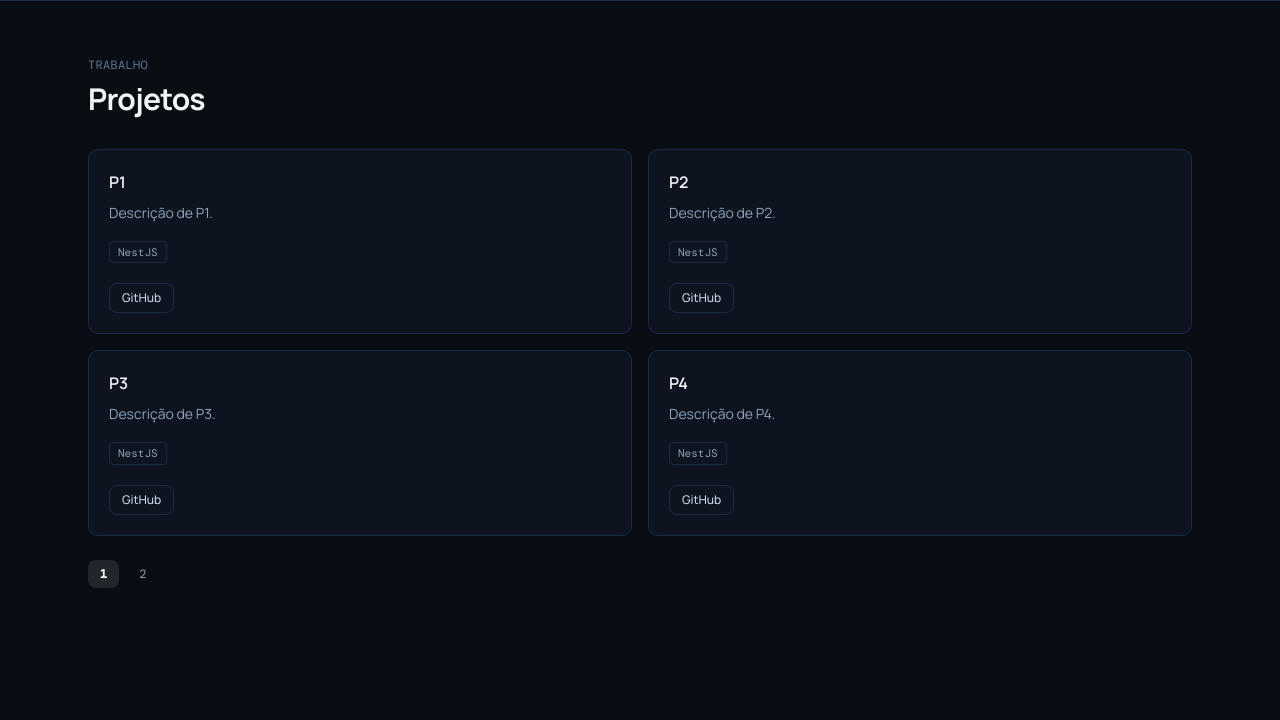
Test: ProjetosGrid › paginates with numbered buttons
Expected: the heading "P4" is shown, [669, 372, 688, 394]
Expected: the text "P5" is not shown
Click the button named "Página 2". click: (143,574)
box: [127, 560, 158, 588]
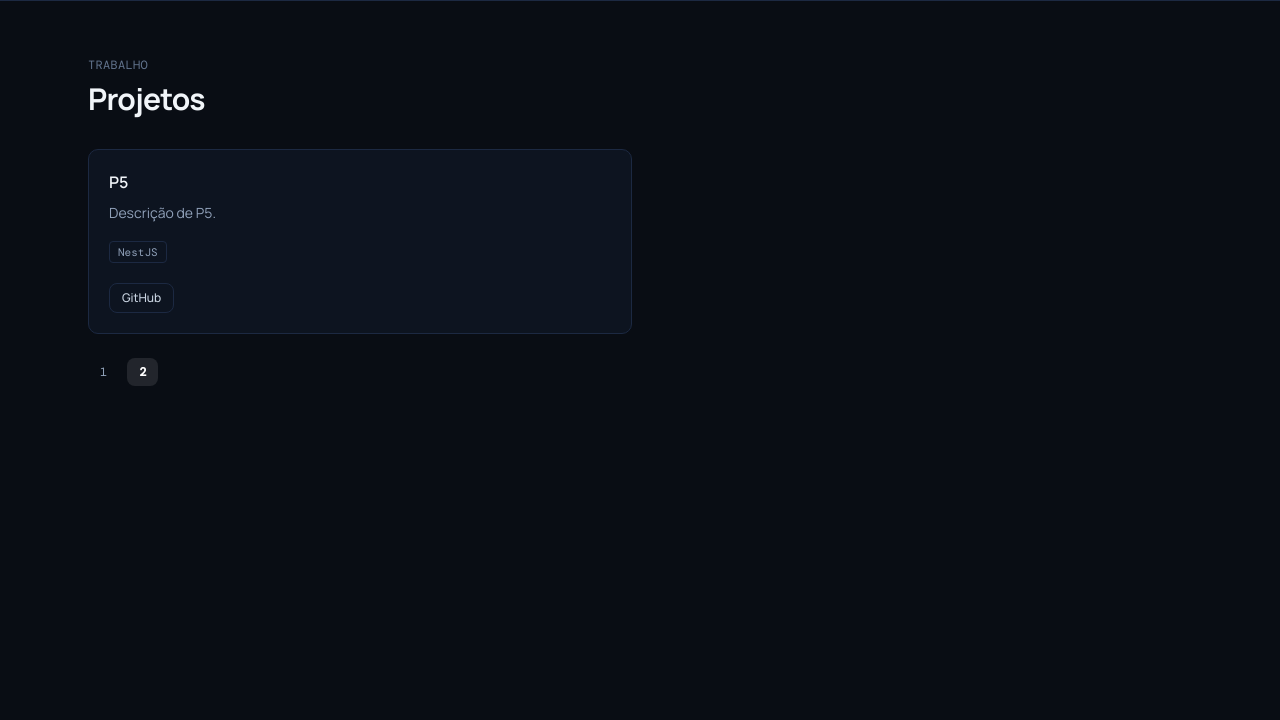
Now the heading "P5" is shown, box [109, 171, 128, 193]
Now the heading "P1" is gone
